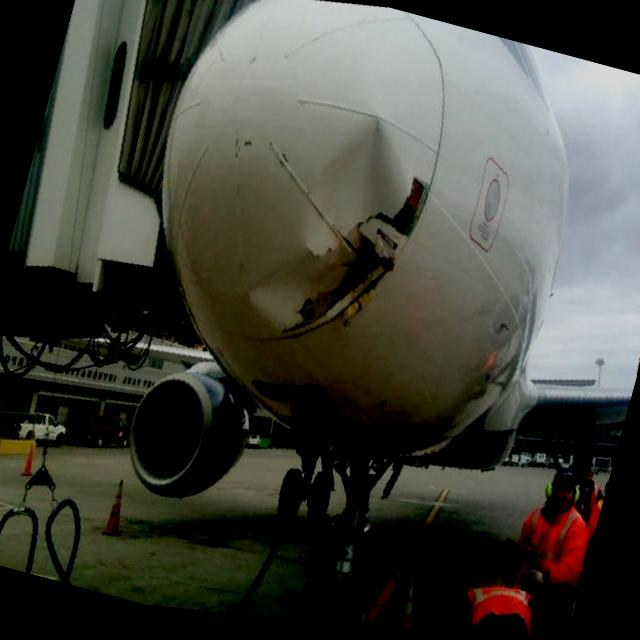dent: (300, 106, 424, 260), (238, 235, 321, 329)
